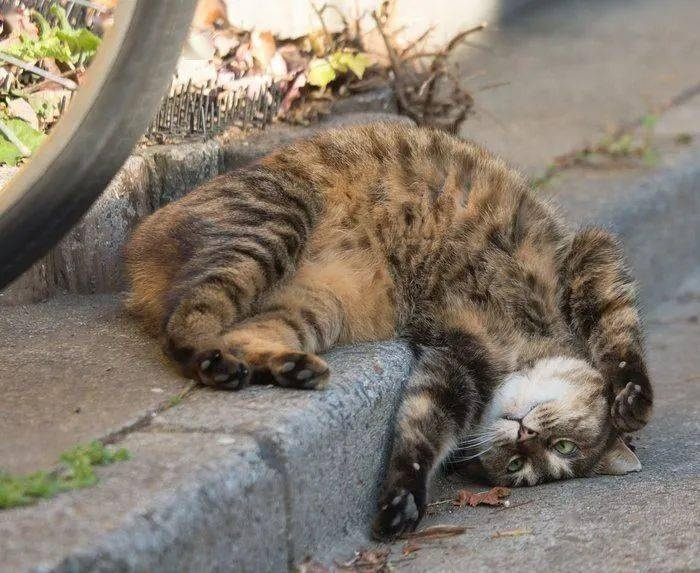cat: (128, 121, 654, 542)
